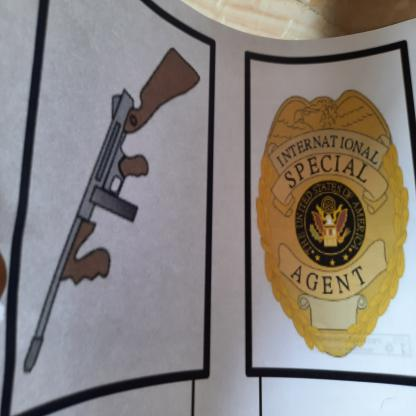Bootlegger: (24, 43, 206, 372)
G-man: (253, 86, 416, 369)
